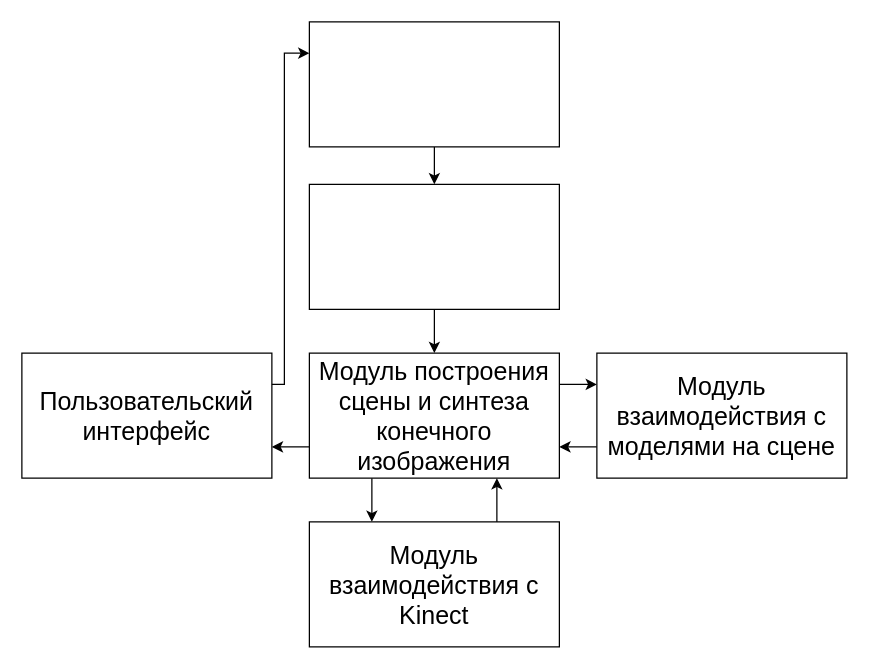
Image size: 869x669. Some labels were removed from this diagram. Here are the shapes that lost their labels. From the top down, the centre of each, then its label:
At point (433, 84): "Модуль загрузки панорам".
At point (433, 246): "Модуль поиска источников света".
